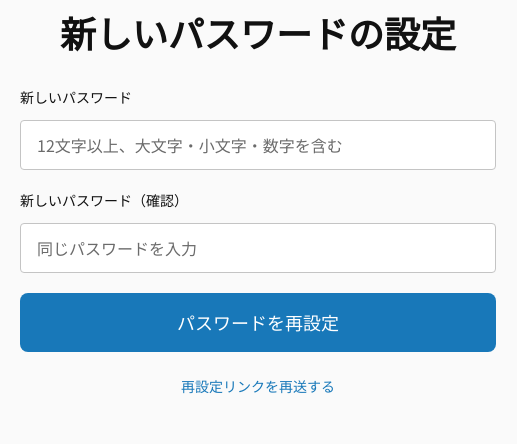
ResetPasswordForm › 確認用パスワードが一致しなければ送信しない
This screenshot has width=517, height=444.
Type "NewPassword1" into the password field labelled "新しいパスワード" at coordinates (258, 145), box [20, 120, 496, 170]
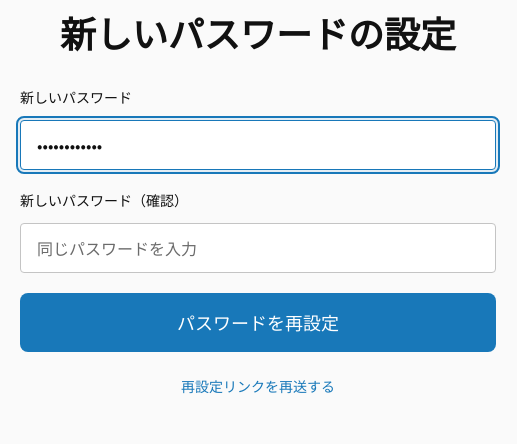
Type "DifferentPassword1" into the password field labelled "新しいパスワード（確認）" at coordinates (258, 248), box [20, 223, 496, 273]
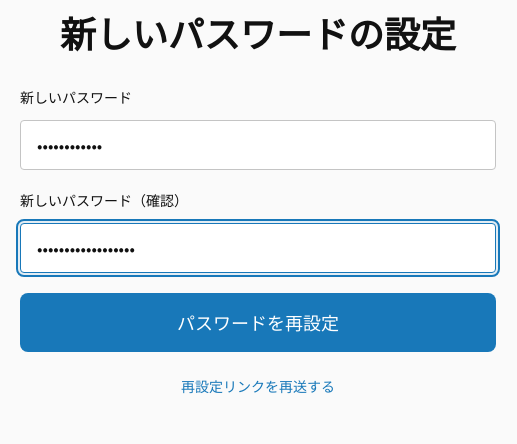
Click the button "パスワードを再設定" at coordinates (258, 322), box [20, 293, 496, 352]
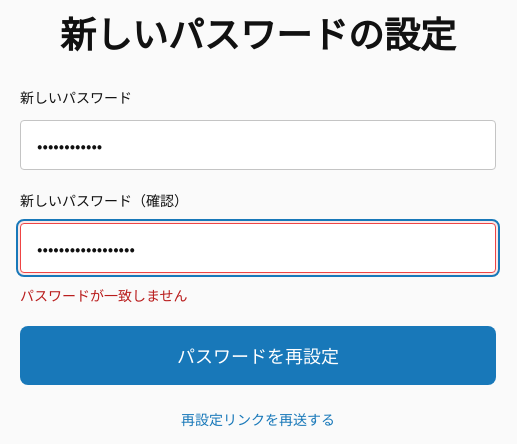
Check: the text "パスワードが一致しません" is shown, box [20, 285, 188, 305]
